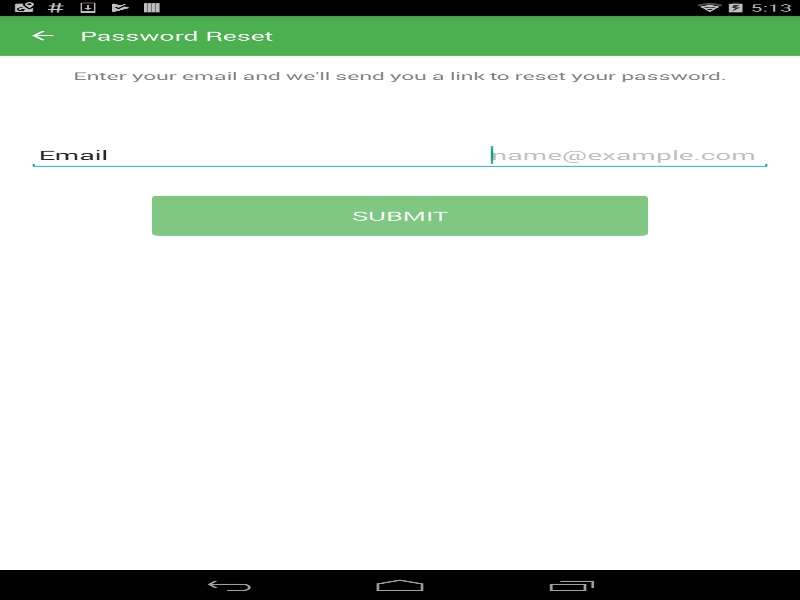Button: (152, 195, 648, 235), (0, 18, 74, 53)
Input: (28, 128, 772, 168)
